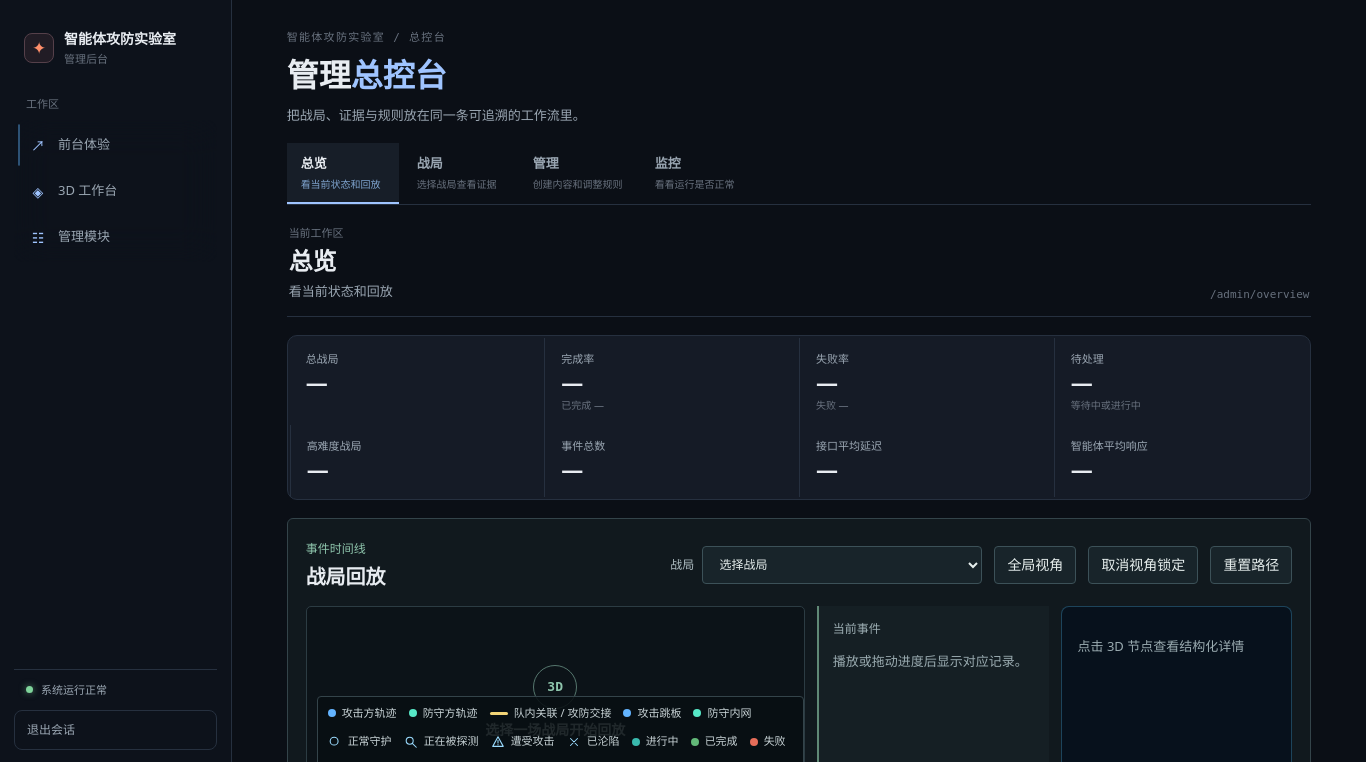
Test case: AdminApp › switches workspaces as real views and persists the selected view in the URL
Expected: the tab "总览 看当前状态和回放" is shown, left=287, top=143, right=399, bottom=204
Click the tab "监控 看看运行是否正常".
click(697, 173)  # box left=641, top=143, right=753, bottom=204
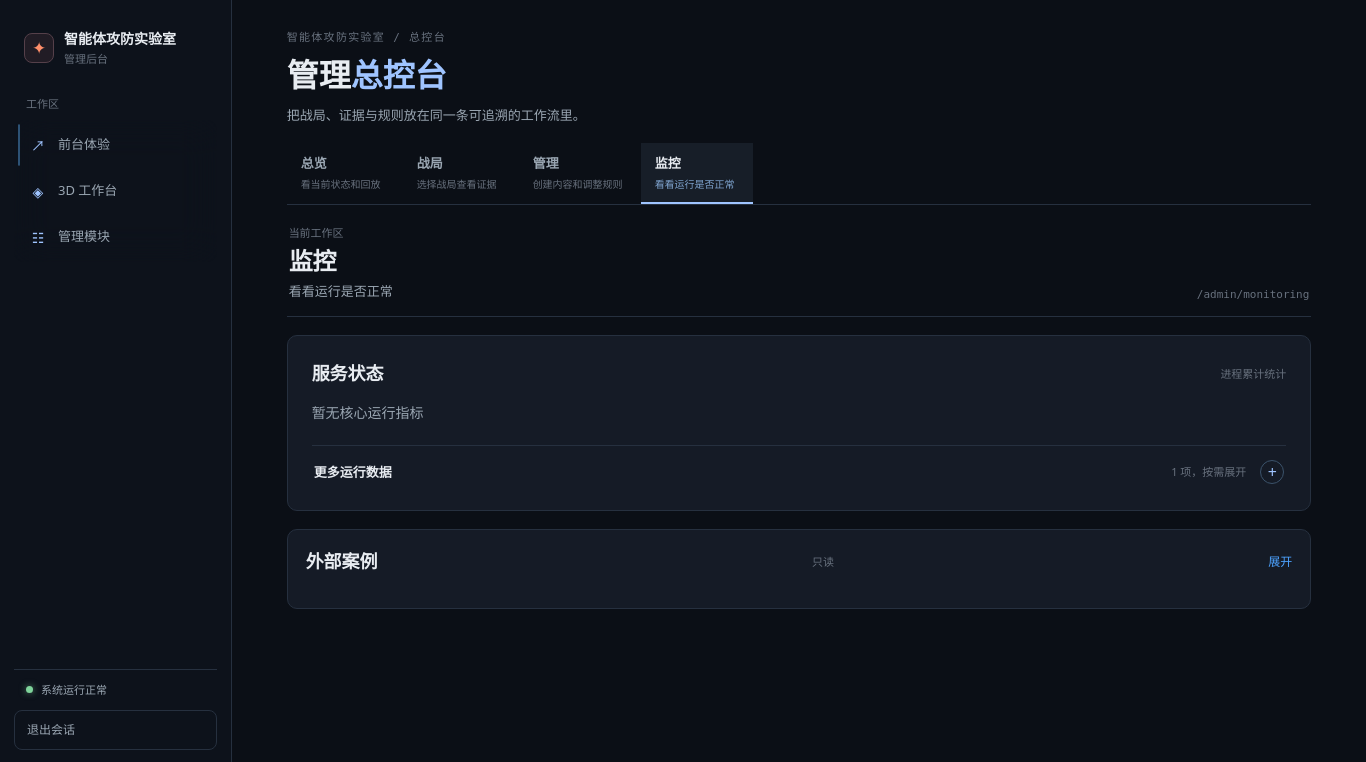
Expected: the panel named "监控工作区" is shown, left=287, top=335, right=1311, bottom=609
